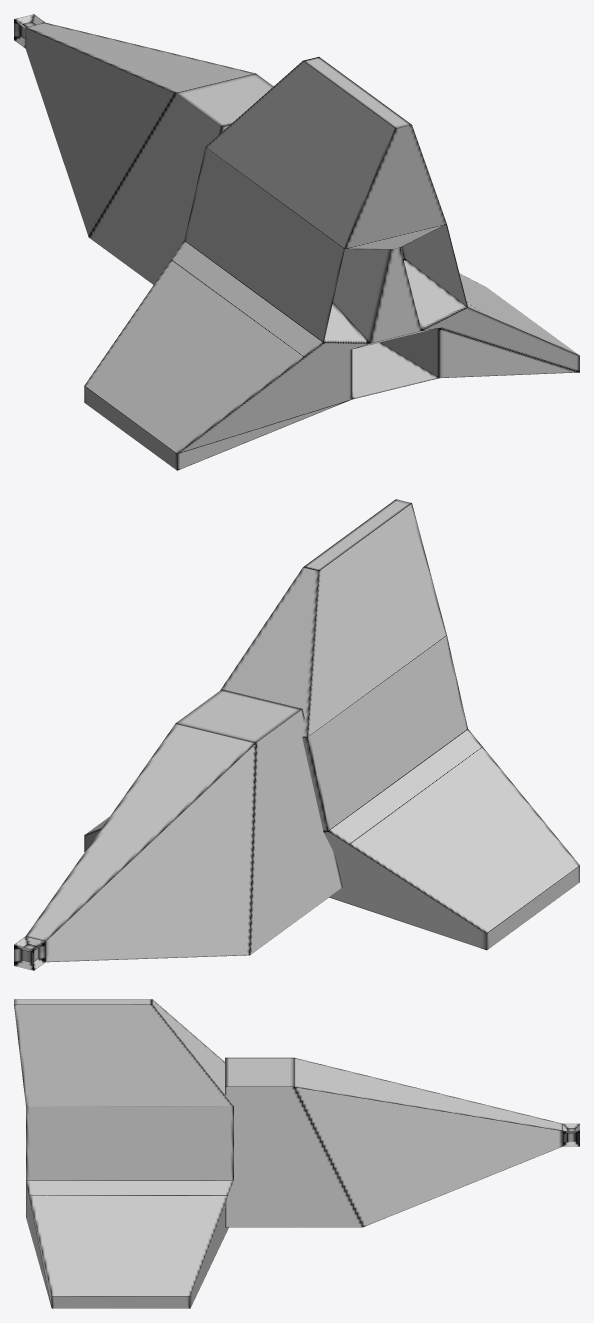
File: fighter.fbx
The picture shows the model from 3 angles, top to bottom: view 1: azimuth 30°, elevation 25°; view 2: azimuth 150°, elevation 25°; view 3: azimuth 270°, elevation 25°; orthographic projection. The views are drawn at different scales.
Parts seen in each view (by area): view 1: BODY; view 2: BODY; view 3: BODY.
Part boxes in pixels (left/top/right/bottom): BODY: left=14, top=14, right=579, bottom=470; BODY: left=14, top=499, right=579, bottom=970; BODY: left=14, top=999, right=579, bottom=1308.
Bounding box in the file's own units: 5 × 3.72 × 8.17.
Materials: 1 (1 with a texture image).
